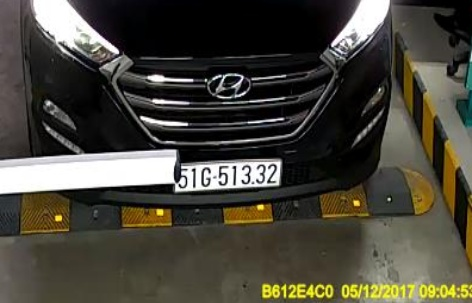plate: (172, 156, 287, 193)
